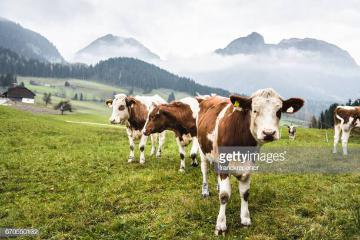cow: (201, 86, 298, 224), (141, 105, 198, 161), (105, 90, 146, 151), (329, 100, 360, 152)
